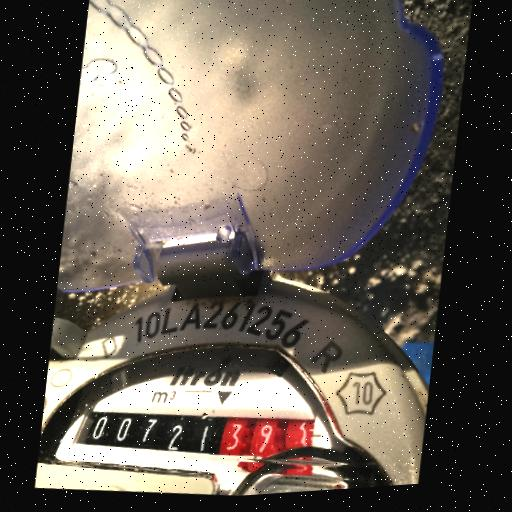0: (106, 405, 141, 455), (84, 404, 118, 452)
1: (188, 410, 227, 459)
2: (155, 407, 199, 459)
3: (218, 412, 258, 461), (281, 417, 316, 457)
7: (128, 405, 167, 457)
9: (249, 413, 288, 463)
border_water_meter_number: (80, 386, 321, 478)
